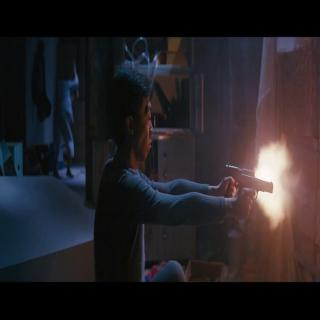gun: (238, 171, 274, 224), (222, 159, 254, 206)
